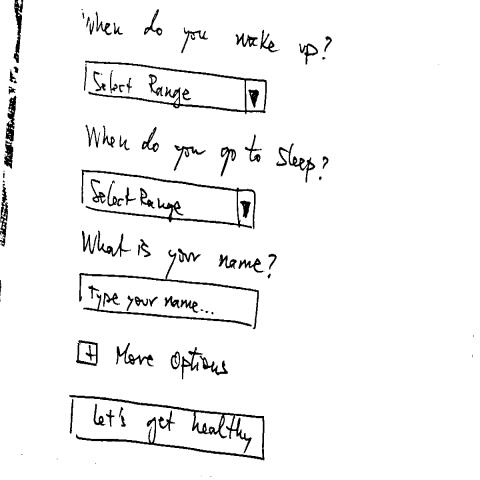Button: (69, 393, 266, 462)
Select: (81, 168, 258, 233), (83, 59, 271, 116)
